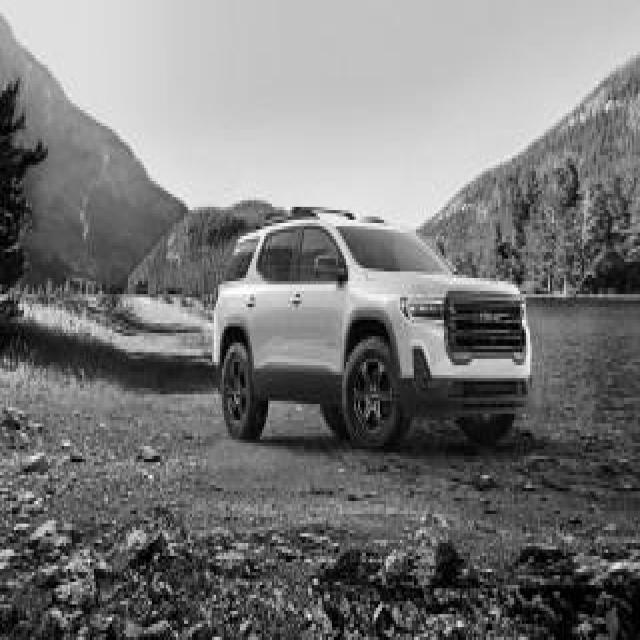Car: (213, 214, 532, 448)
